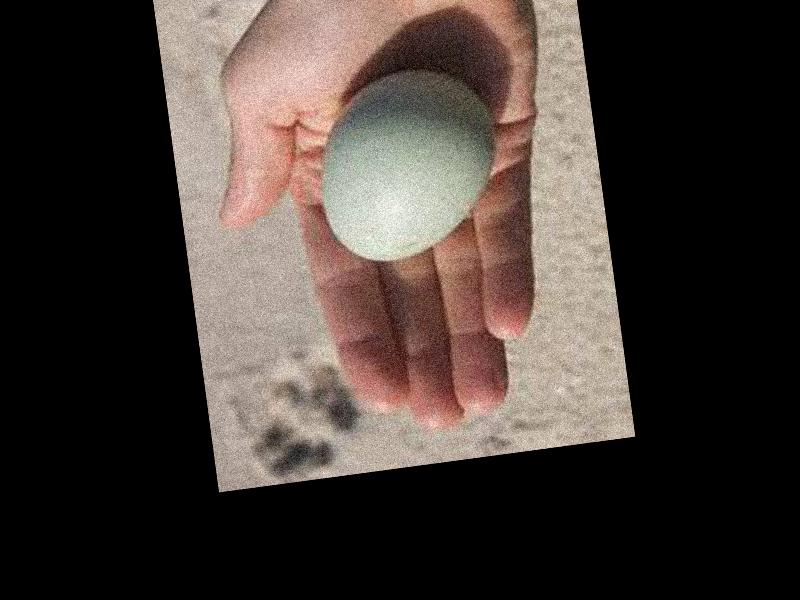Eggs: (309, 64, 507, 270)
